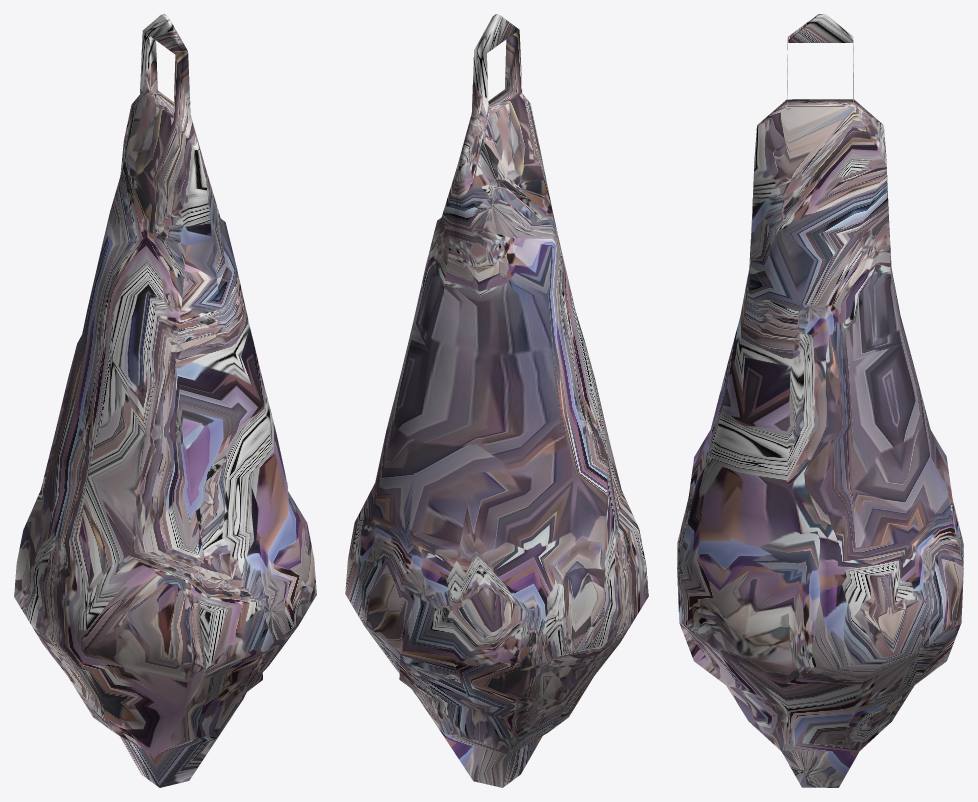
The model's file is crystal_1_small.glb.
3 views of the same model, side by side, from view 1: azimuth 30°, elevation 25°; view 2: azimuth 150°, elevation 25°; view 3: azimuth 270°, elevation 25° (orthographic).
Parts seen in each view (by area): view 1: crystal; view 2: crystal; view 3: crystal.
Part boxes in pixels (x1=…): crystal: x1=14, y1=14, x2=316, y2=787; crystal: x1=345, y1=14, x2=648, y2=787; crystal: x1=677, y1=14, x2=963, y2=787.
Bounding box in the file's own units: 0.3143 × 0.9385 × 0.3184.
Materials: 1 (1 with a texture image).
